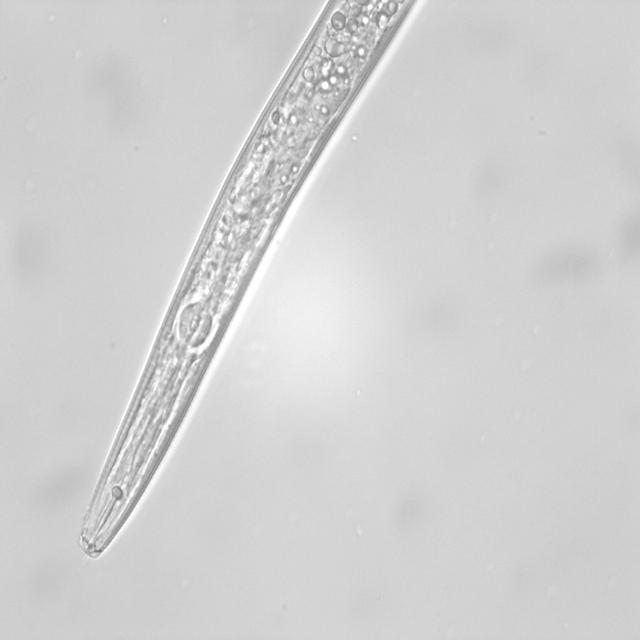Pratylenchus: (78, 0, 488, 566)
